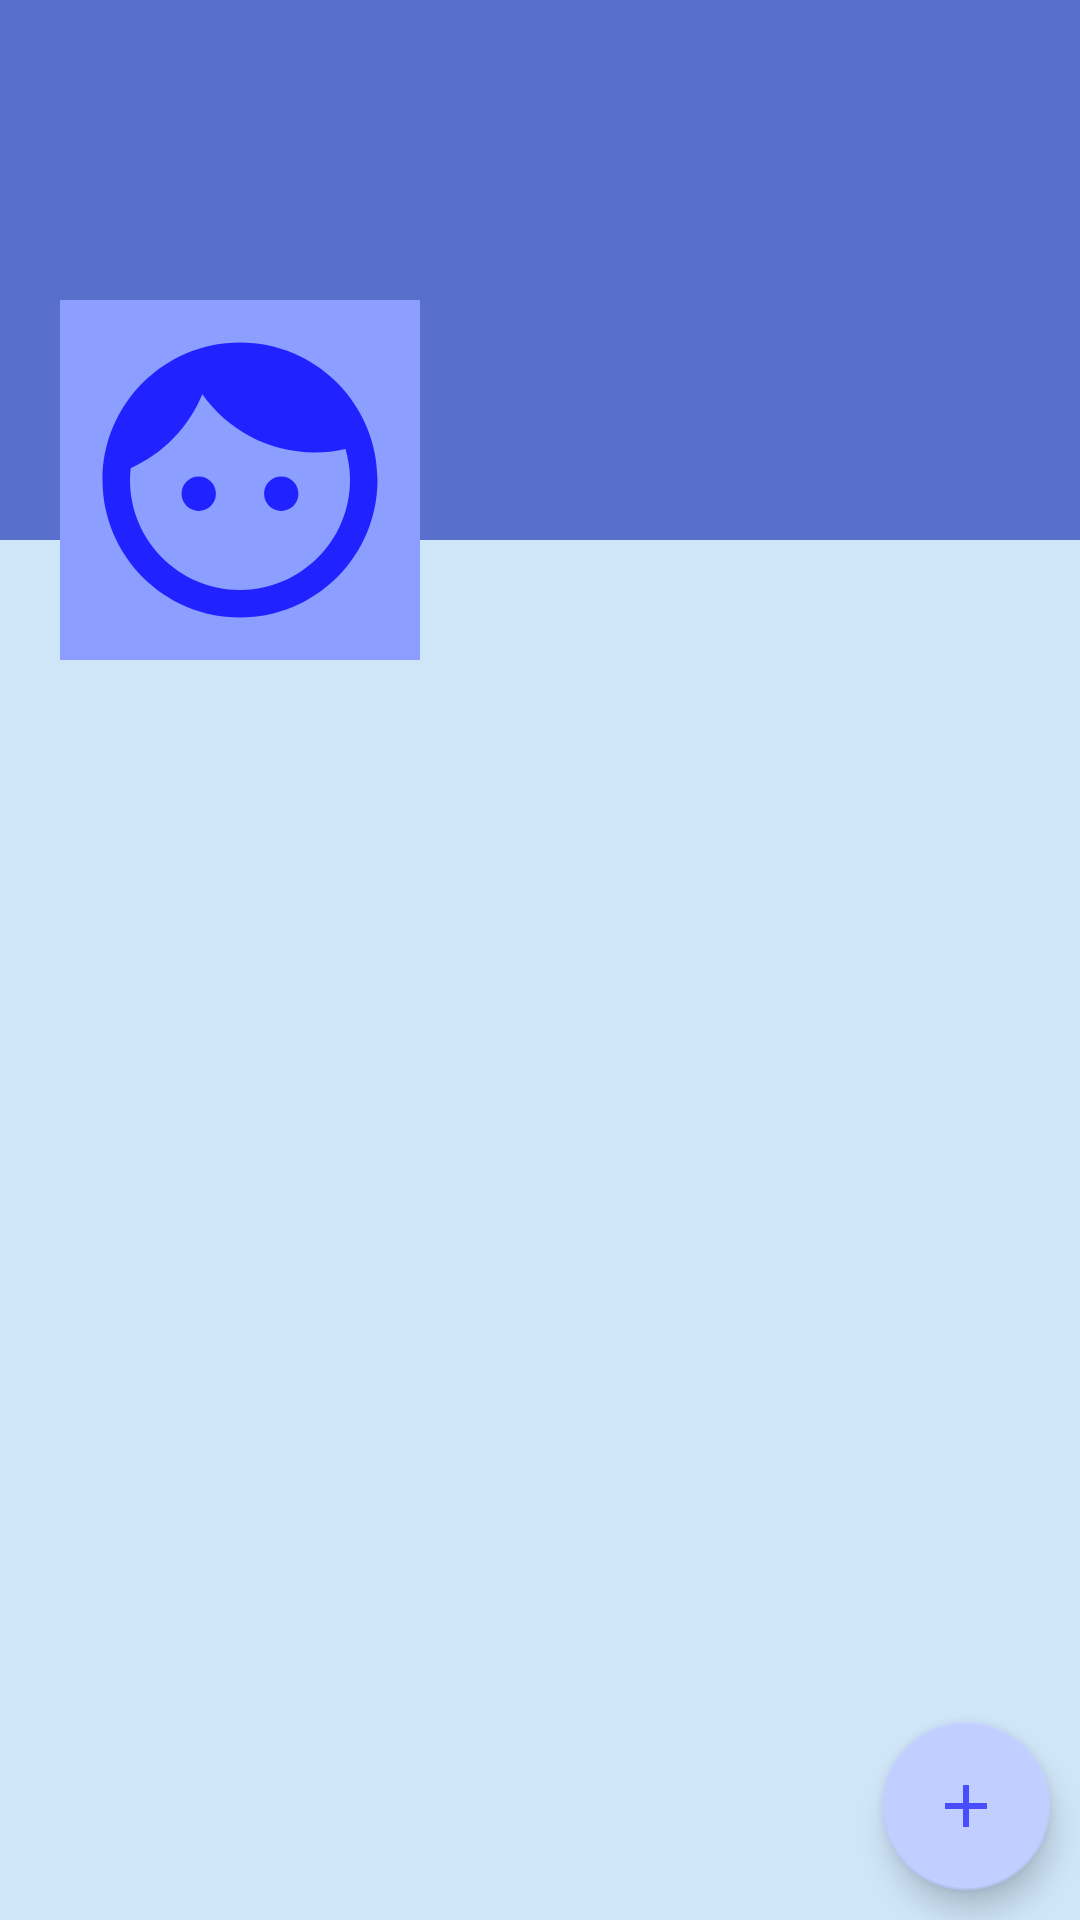

Icons on this 1080 × 1920 Android screen, each with the point to tap as [x,y]:
add: [966,1806]
face: [240,480]
